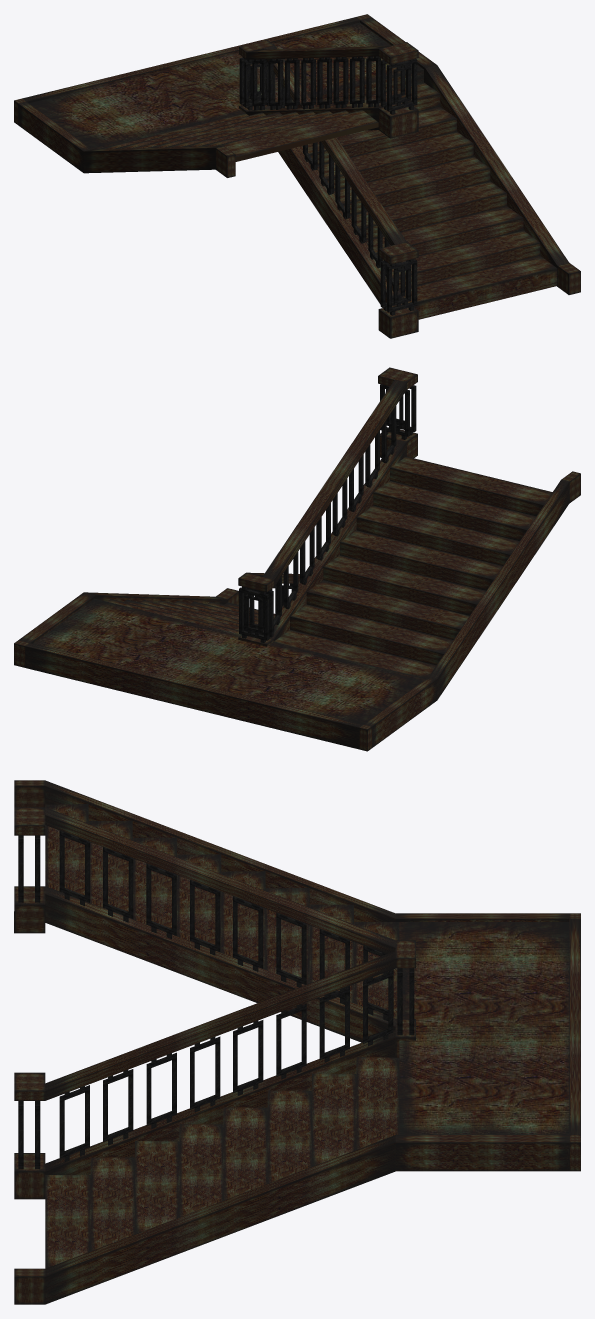
The model's file is Stairway 1.fbx.
The picture shows the model from 3 angles, top to bottom: view 1: azimuth 30°, elevation 25°; view 2: azimuth 150°, elevation 25°; view 3: azimuth 270°, elevation 25°; orthographic projection. The views are drawn at different scales.
Visible parts, largest first — view 1: Stairs; view 2: Stairs; view 3: Stairs.
Boxes of the visible parts, <box> form: Stairs: <box>14,14,580,338</box>; Stairs: <box>14,367,580,751</box>; Stairs: <box>14,780,580,1304</box>.
Size of the model in its own units: 10.03 by 10.48 by 7.62.
